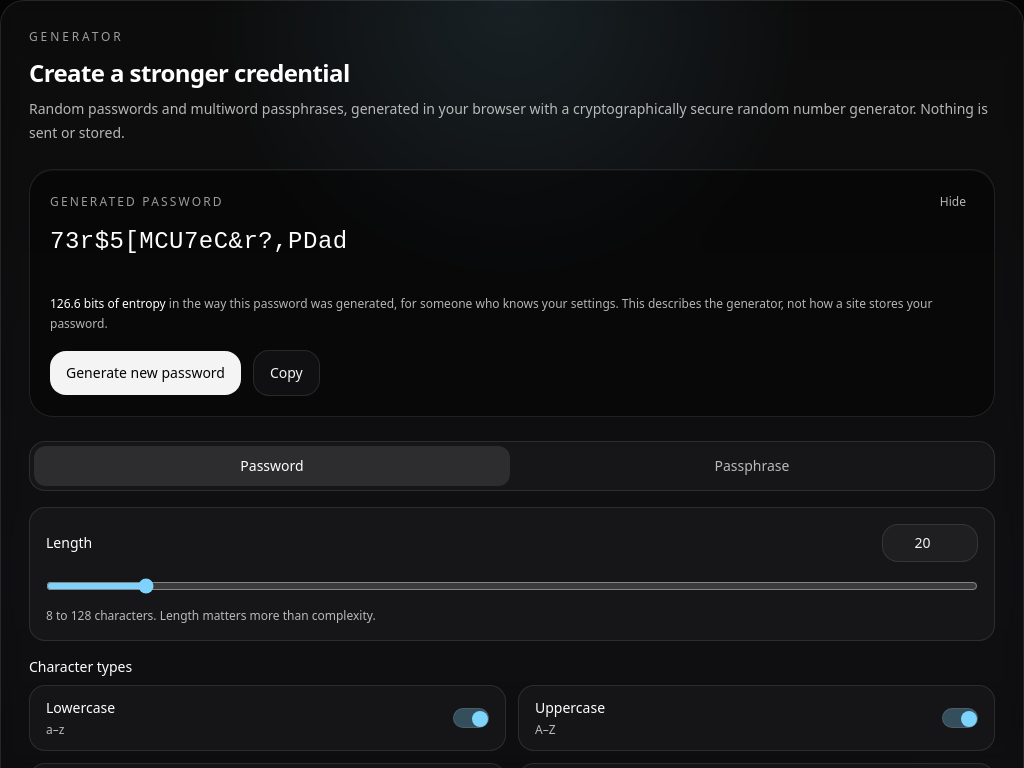
Test: PasswordGenerator: copy and reveal › copies exactly the displayed value and announces it
Click the button named "copy password to clipboard".
click(286, 373)  # box [253,350,320,396]
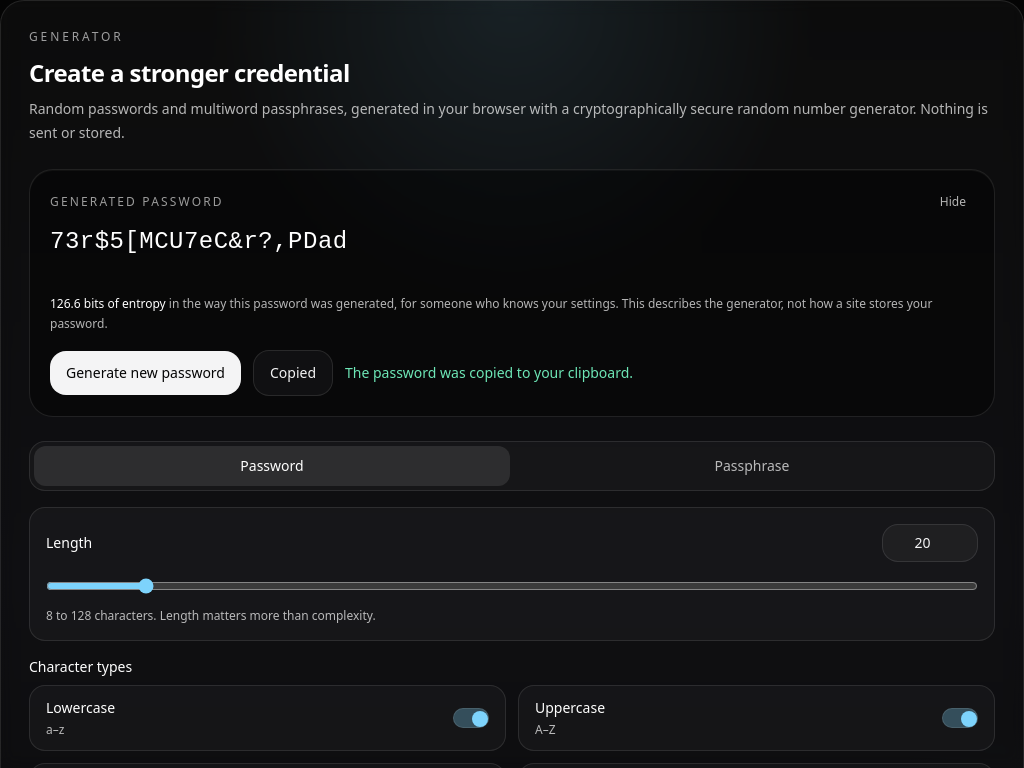
Result: the text "The password was copied to your clipboard." is shown at [345,363,633,383]
